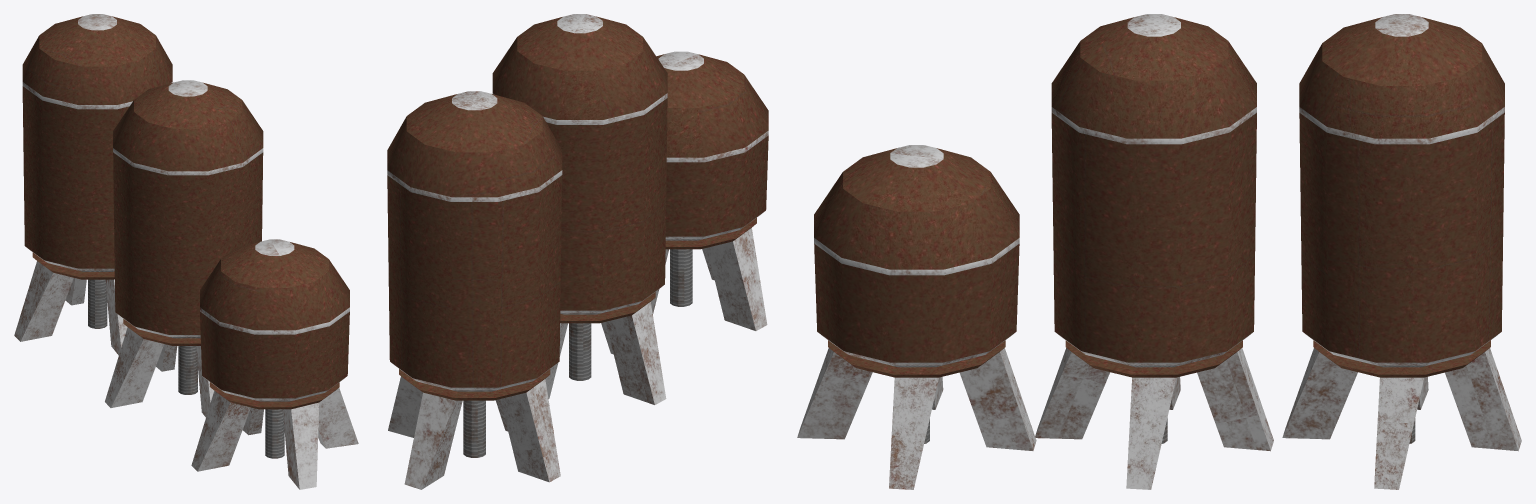
File: RoofTanks-2.fbx
3 views of the same model, side by side, from view 1: azimuth 30°, elevation 25°; view 2: azimuth 150°, elevation 25°; view 3: azimuth 270°, elevation 25° (orthographic). The views are drawn at different scales.
Parts seen in each view (by area): view 1: Cylinder; view 2: Cylinder; view 3: Cylinder.
Boxes of the visible parts, x1=… form: Cylinder: x1=14, y1=14, x2=358, y2=489; Cylinder: x1=387, y1=14, x2=768, y2=489; Cylinder: x1=797, y1=14, x2=1521, y2=489.
Size of the model in its own units: 7019 by 2317 by 4425.
Materials: 3 (3 with a texture image).
